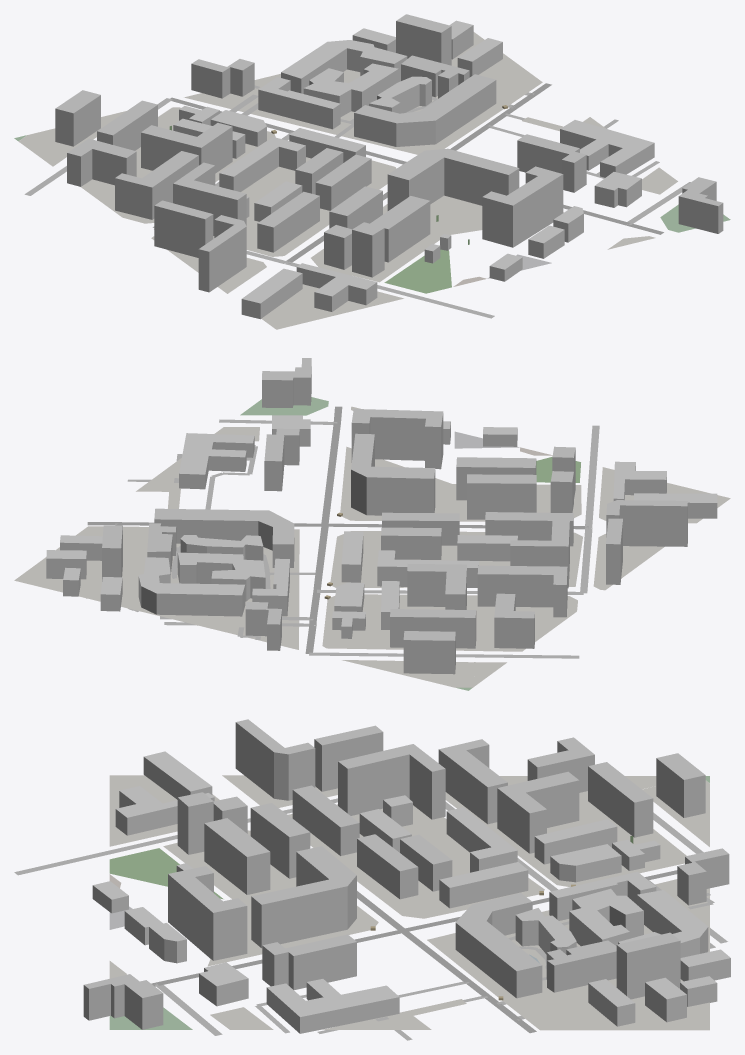
3 renders of one model, top to bottom at view 1: azimuth 30°, elevation 25°; view 2: azimuth 150°, elevation 25°; view 3: azimuth 270°, elevation 25°, orthographic. The views are drawn at different scales.
Size of the model in its own units: 575 by 45.83 by 597.
